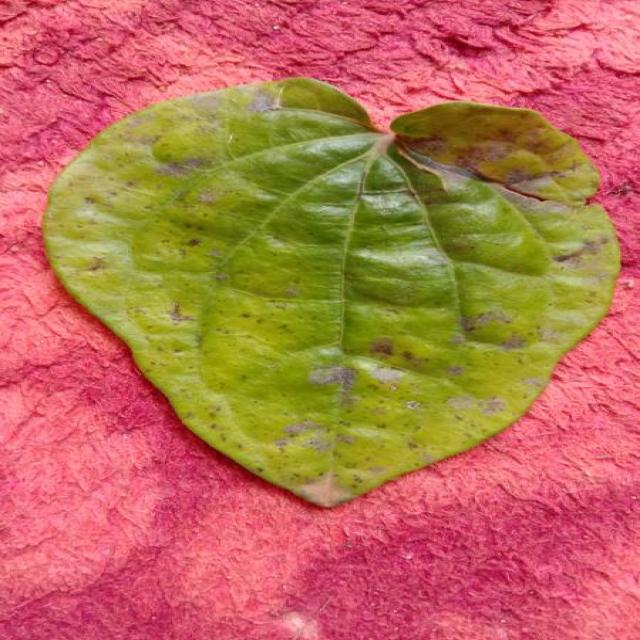betel: (43, 79, 618, 506)
defected betel: (93, 158, 467, 445)
